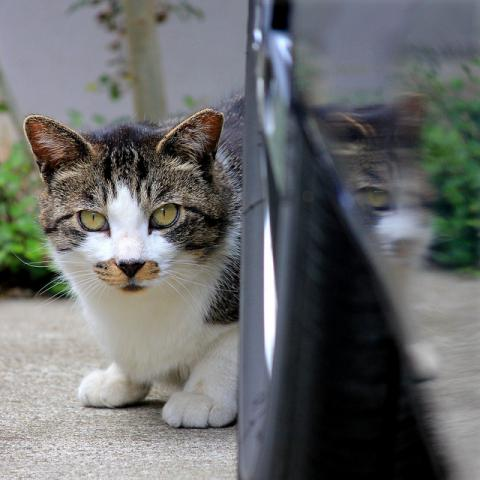car: (240, 1, 479, 473)
